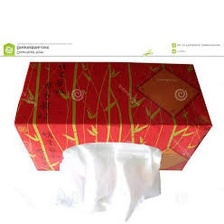book: (9, 56, 217, 177)
tissue: (48, 137, 167, 224)
